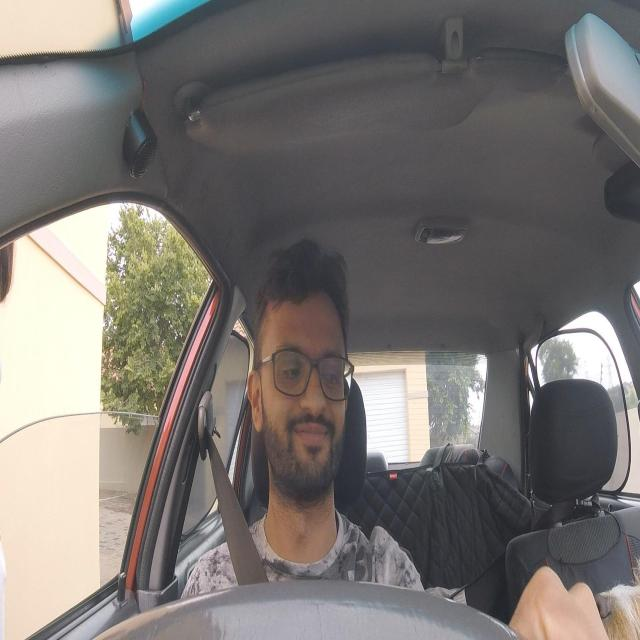open: (272, 342, 309, 403), (318, 350, 346, 407)
